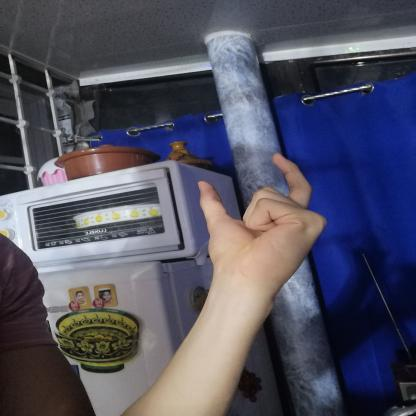NOON: (187, 146, 338, 296)
